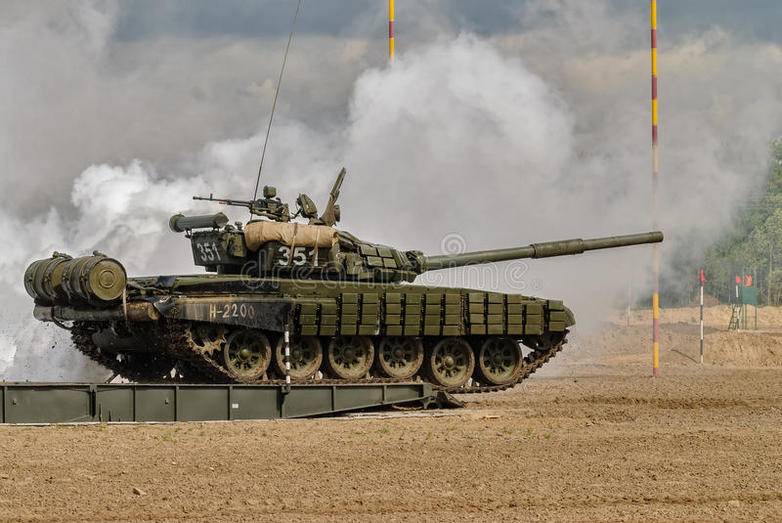t72: (27, 214, 670, 386)
